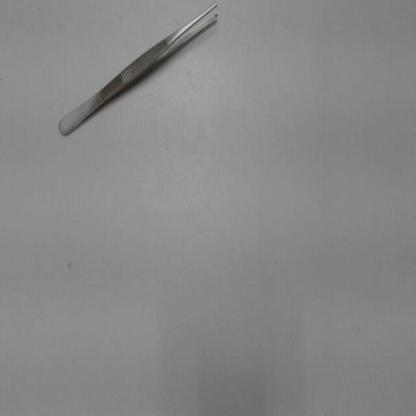Gillies Toothed Dissector: (50, 3, 233, 146)
